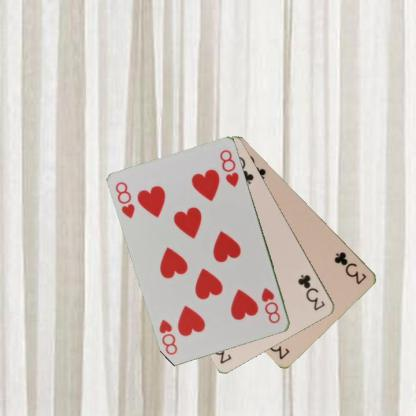3c: (332, 249, 368, 286), (296, 272, 326, 312)
8h: (113, 179, 136, 220), (259, 285, 282, 325)
